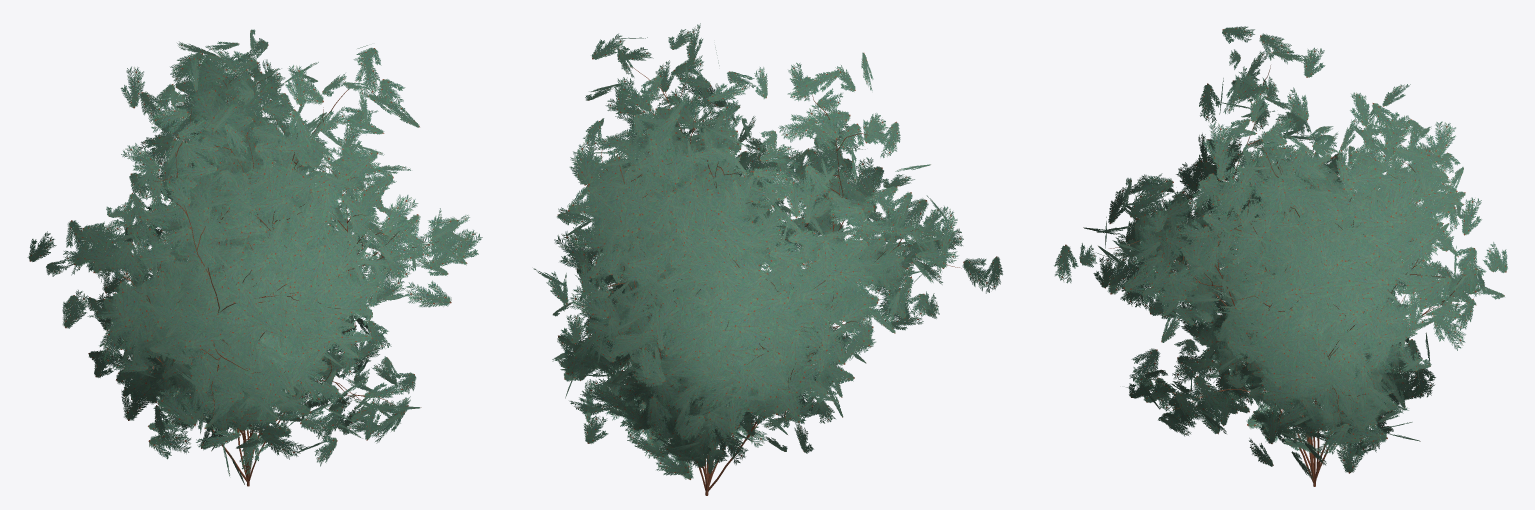
File: JU2_Juniper_Upright_2.6m.glb
3 views of the same model, side by side, from view 1: azimuth 30°, elevation 25°; view 2: azimuth 150°, elevation 25°; view 3: azimuth 270°, elevation 25° (orthographic). The views are drawn at different scales.
Visible parts, largest first — view 1: JU2_leaves, JU2_wood; view 2: JU2_leaves, JU2_wood; view 3: JU2_leaves, JU2_wood.
Boxes of the visible parts, x1,y1,x2,y2 form: JU2_leaves: [27, 29, 482, 484]; JU2_wood: [119, 75, 445, 486]; JU2_leaves: [533, 23, 1002, 479]; JU2_wood: [593, 66, 961, 495]; JU2_leaves: [1054, 26, 1507, 480]; JU2_wood: [1109, 65, 1461, 486].
Size of the model in its own units: 2.21 by 2.6 by 2.65.
2 materials, 2 textured.
